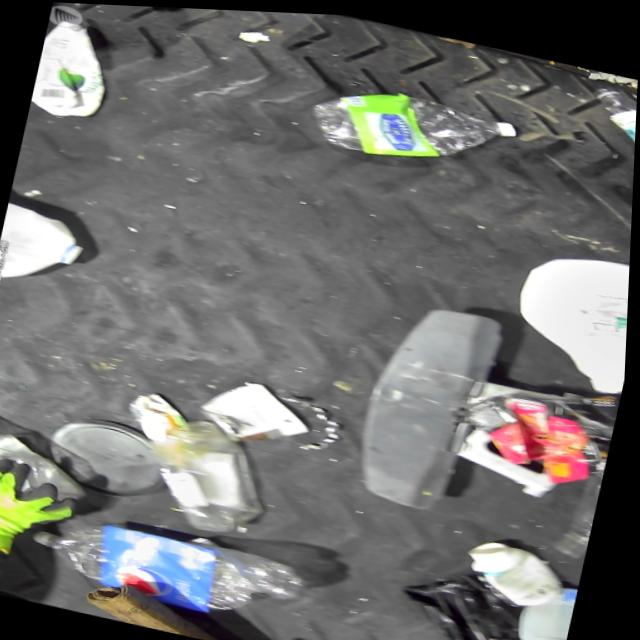milk_jug: (502, 237, 632, 390), (0, 199, 95, 302), (514, 567, 584, 640)
plastic_bottle: (22, 501, 317, 628), (300, 69, 522, 183), (548, 433, 613, 557), (575, 74, 638, 160)
